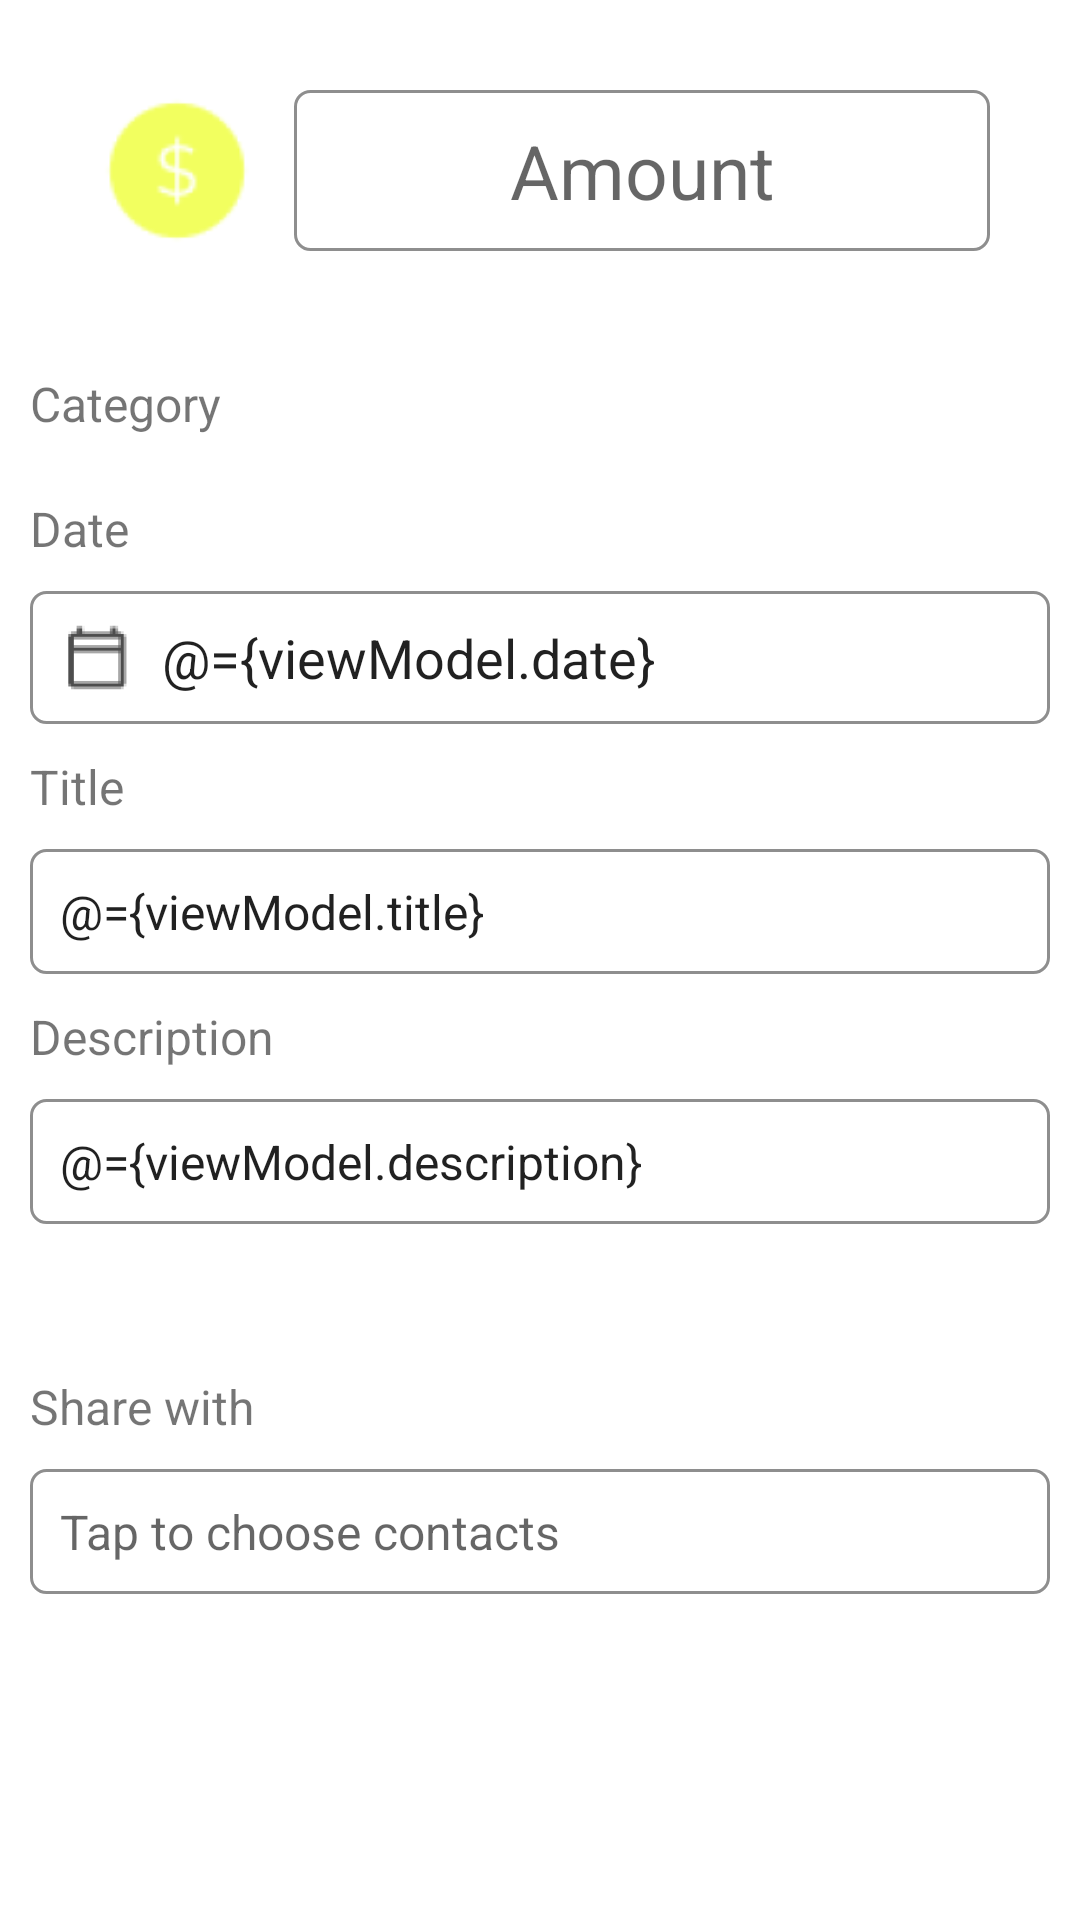

Point at icon controls on the screen. Image size 1080 × 1920, points as (x,y).
coin: (177,170)
